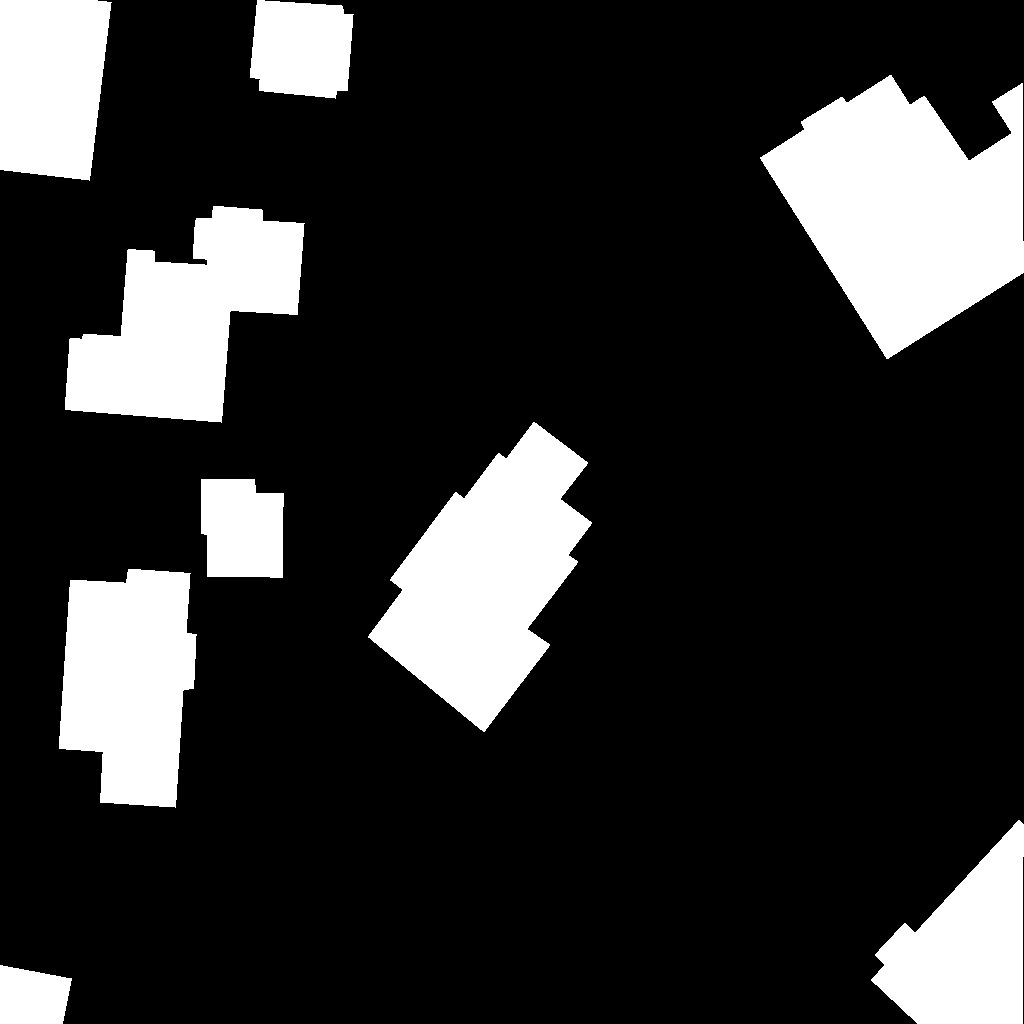building: (760, 75, 1024, 360), (368, 422, 593, 733), (65, 206, 305, 423), (59, 569, 197, 808), (871, 820, 1024, 1024), (0, 0, 112, 181), (250, 0, 354, 99), (201, 479, 284, 578), (0, 965, 73, 1024)
